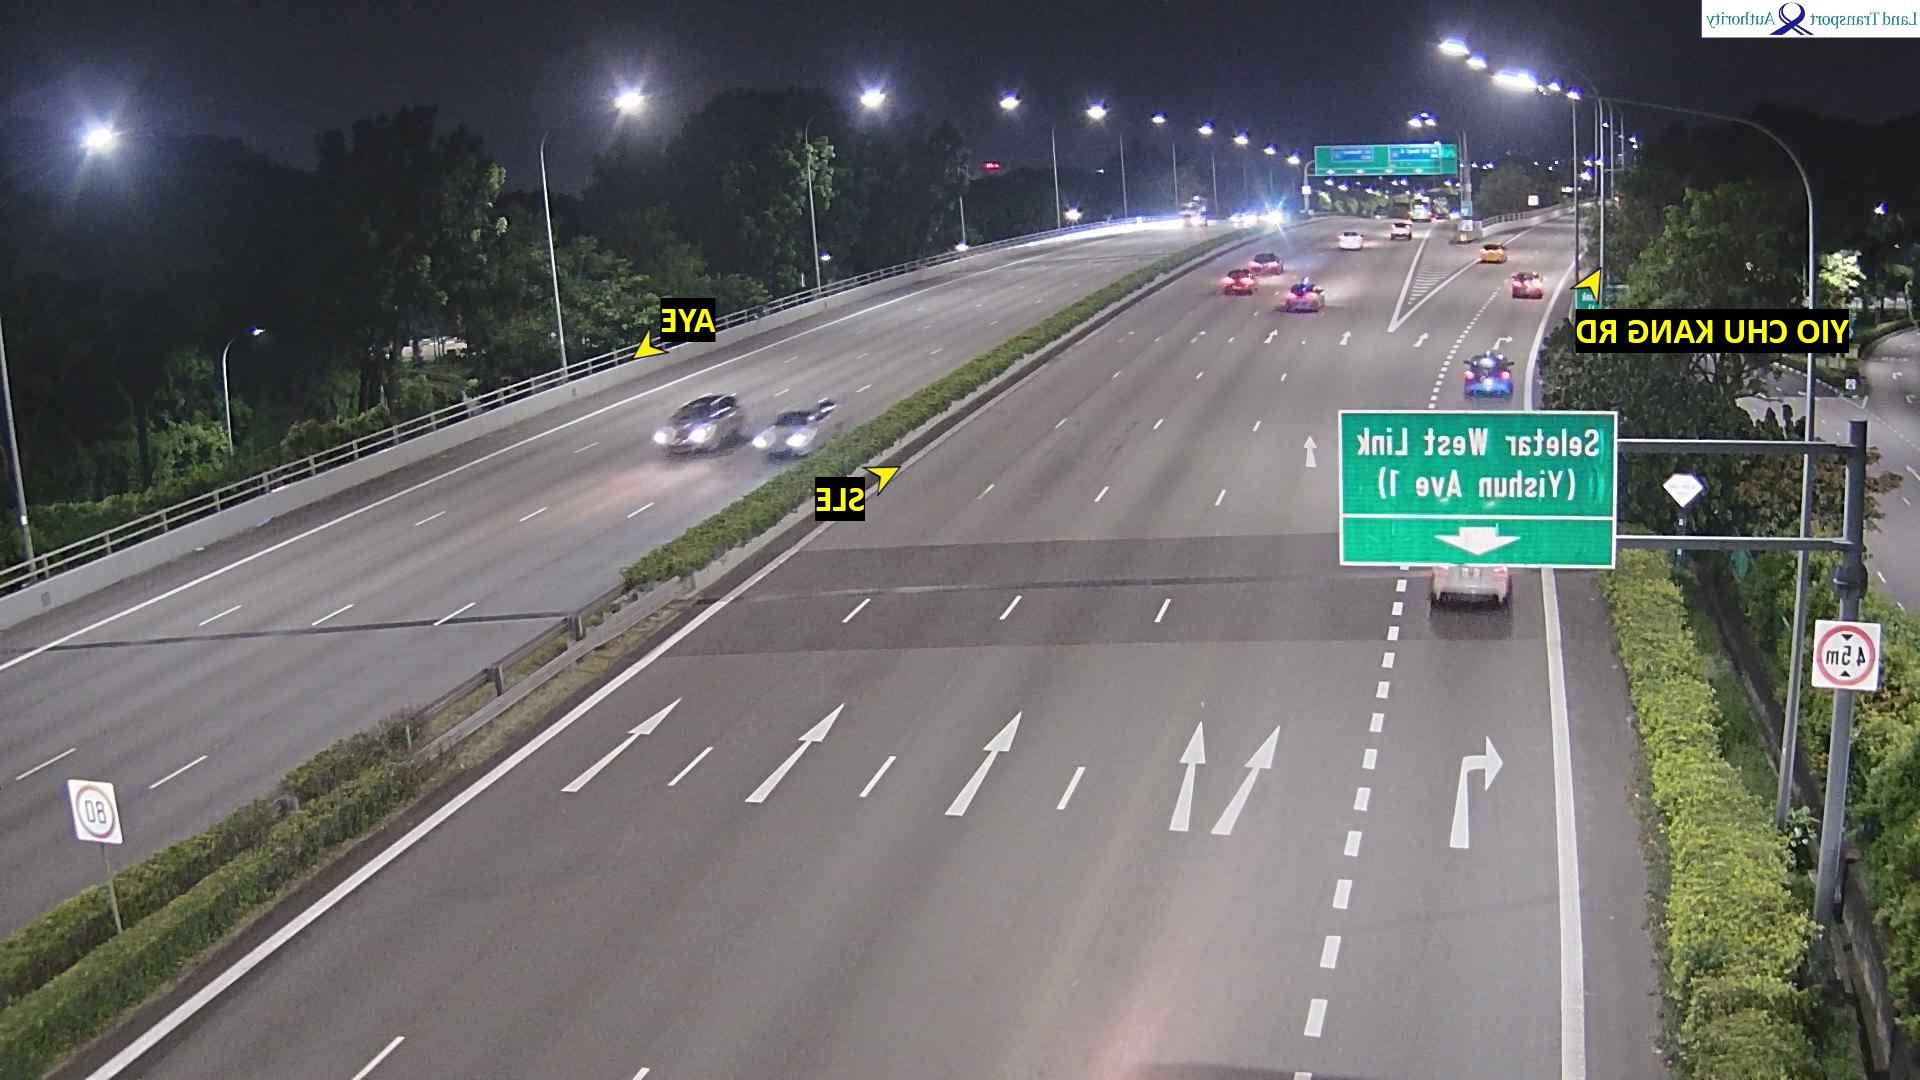incoming: (651, 400, 723, 454), (754, 407, 824, 459)
